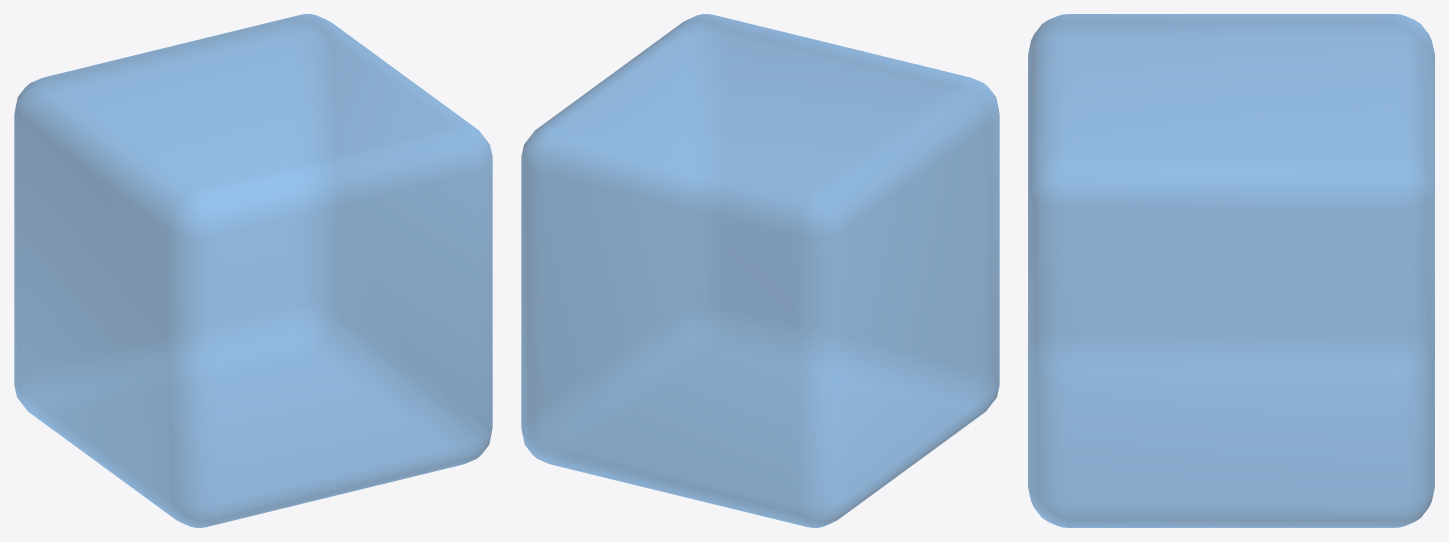
The model's file is 障碍物.fbx.
3 renders of one model, left to right at view 1: azimuth 30°, elevation 25°; view 2: azimuth 150°, elevation 25°; view 3: azimuth 270°, elevation 25°, orthographic. The views are drawn at different scales.
Visible parts, largest first — view 1: 立方体; view 2: 立方体; view 3: 立方体.
Part boxes in pixels (x1,y1,x2,y2): 立方体: [14, 14, 492, 527]; 立方体: [521, 14, 999, 527]; 立方体: [1028, 14, 1434, 527].
Size of the model in its own units: 20 by 20 by 20.
